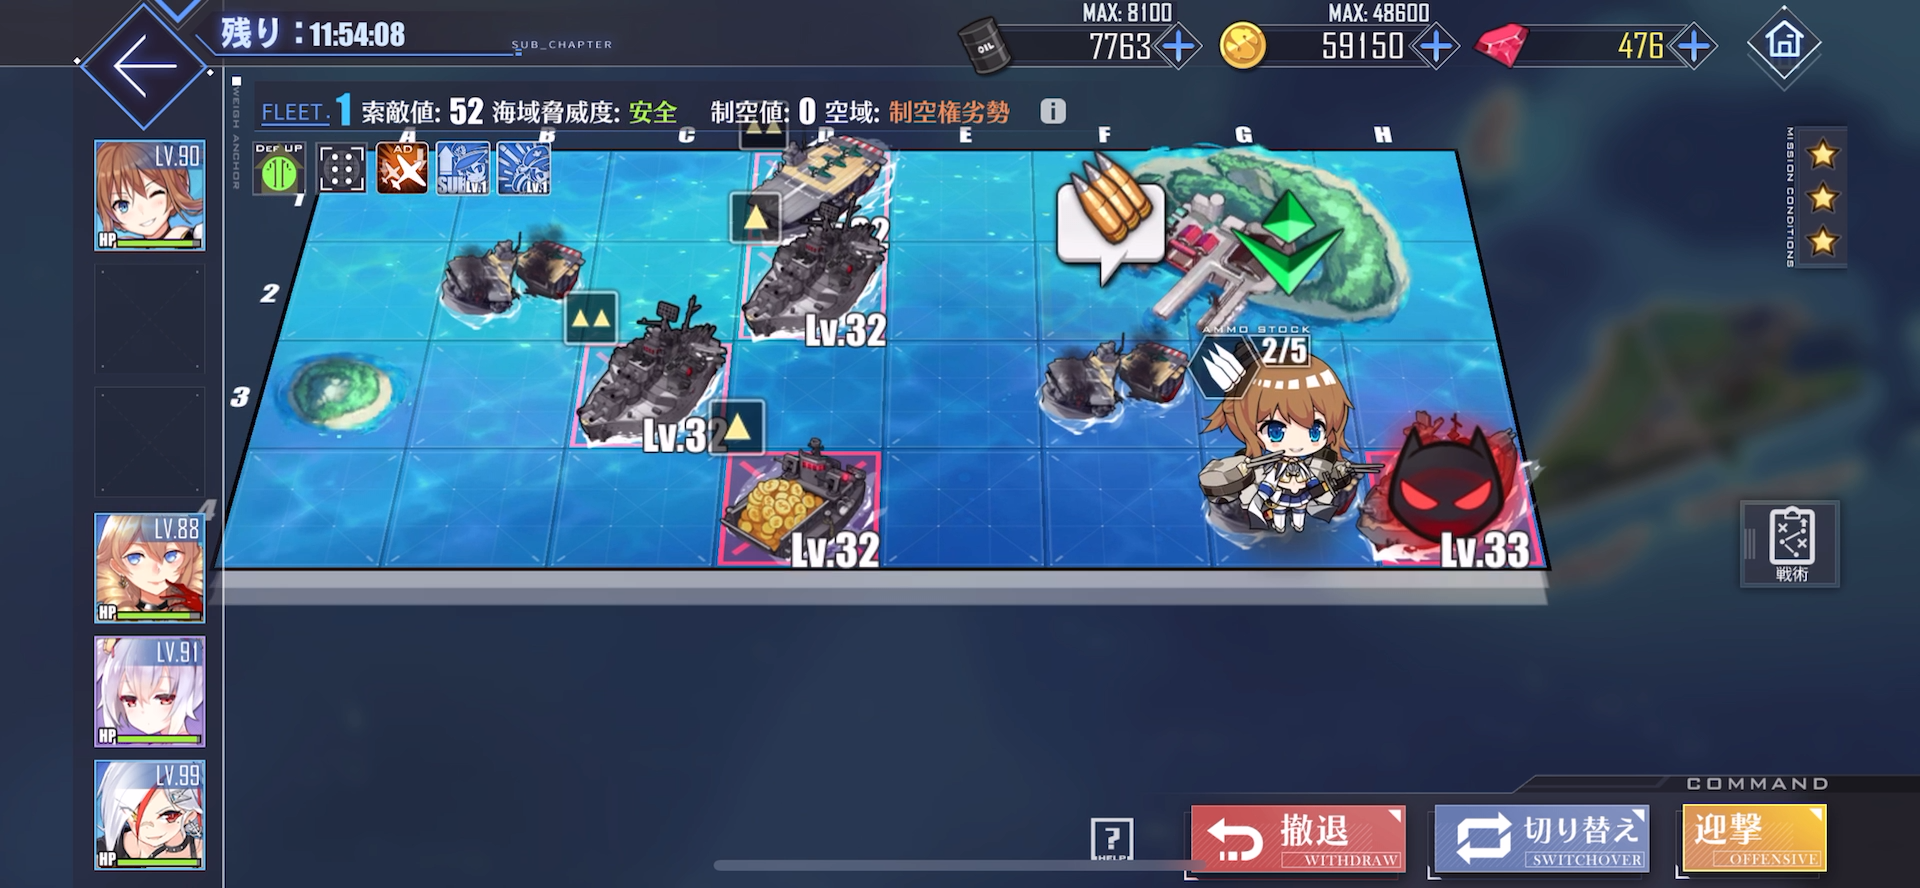boss: (1354, 405, 1536, 578)
